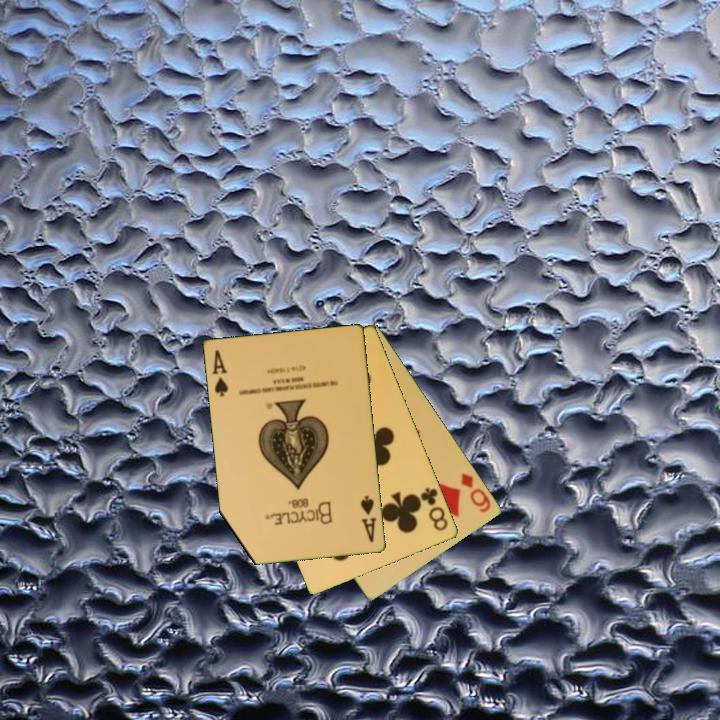6d: (458, 469, 494, 516)
8c: (417, 484, 451, 534)
As: (357, 492, 380, 545), (209, 347, 231, 400)
